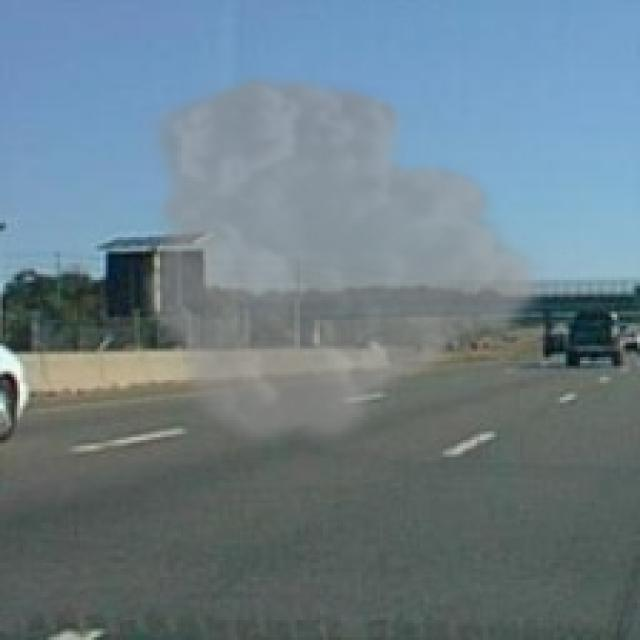smoke: (137, 69, 552, 454)
